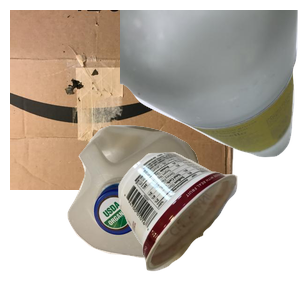cardboard: (10, 10, 245, 190)
glass: (120, 10, 300, 160)
plastic: (65, 123, 257, 300)
trash: (116, 149, 300, 300)
